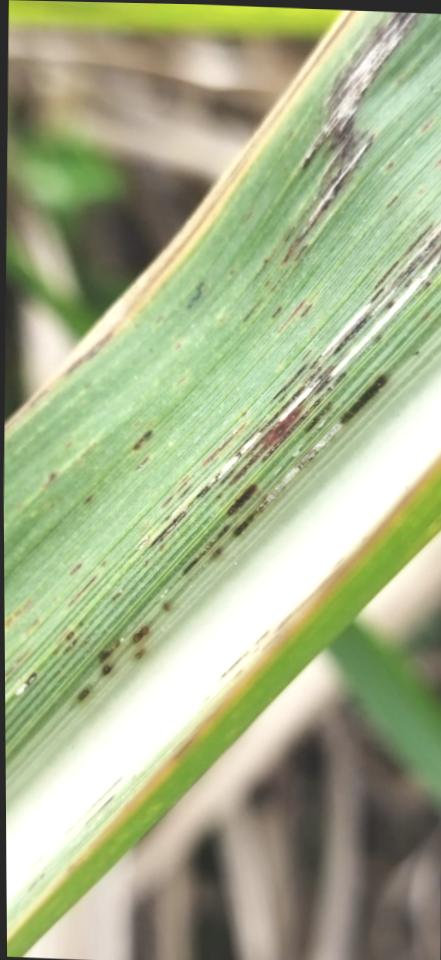Rust: (4, 10, 361, 435), (282, 12, 419, 264), (147, 362, 325, 550), (231, 370, 391, 537), (312, 254, 441, 396), (217, 360, 336, 487), (329, 226, 441, 358), (259, 368, 349, 466), (227, 403, 306, 488), (308, 284, 386, 370), (371, 219, 436, 292), (182, 524, 230, 575), (201, 421, 247, 467), (270, 360, 310, 402), (159, 472, 190, 509), (227, 482, 257, 516), (277, 298, 306, 333), (68, 573, 98, 606), (302, 401, 333, 432), (252, 247, 277, 282), (5, 597, 34, 627), (184, 280, 210, 309), (5, 648, 30, 676), (418, 241, 441, 271), (98, 637, 123, 664), (269, 263, 292, 292), (15, 671, 37, 695), (242, 297, 263, 322), (132, 428, 154, 449), (207, 544, 224, 563), (80, 440, 98, 457), (133, 625, 149, 643), (25, 619, 40, 637), (63, 637, 79, 652), (179, 483, 193, 499), (293, 245, 307, 261), (382, 158, 395, 174), (76, 687, 90, 701), (136, 455, 150, 469), (385, 194, 399, 208), (137, 534, 151, 548), (69, 562, 82, 576), (173, 374, 187, 387), (421, 118, 434, 132), (300, 303, 312, 317), (133, 648, 147, 660), (421, 277, 433, 291), (372, 332, 384, 344), (101, 664, 112, 677), (82, 493, 94, 504), (46, 472, 57, 484), (111, 588, 122, 600), (384, 298, 395, 310), (402, 277, 414, 288), (271, 306, 281, 318), (66, 629, 75, 639), (131, 419, 141, 428), (433, 157, 441, 168), (172, 342, 183, 350), (161, 602, 170, 611), (141, 559, 151, 567), (155, 315, 163, 325), (416, 187, 425, 195), (76, 459, 84, 467), (63, 441, 72, 448), (240, 409, 248, 416), (263, 279, 271, 286), (159, 546, 166, 553), (228, 269, 235, 275)
Yellow: (7, 452, 441, 941)
